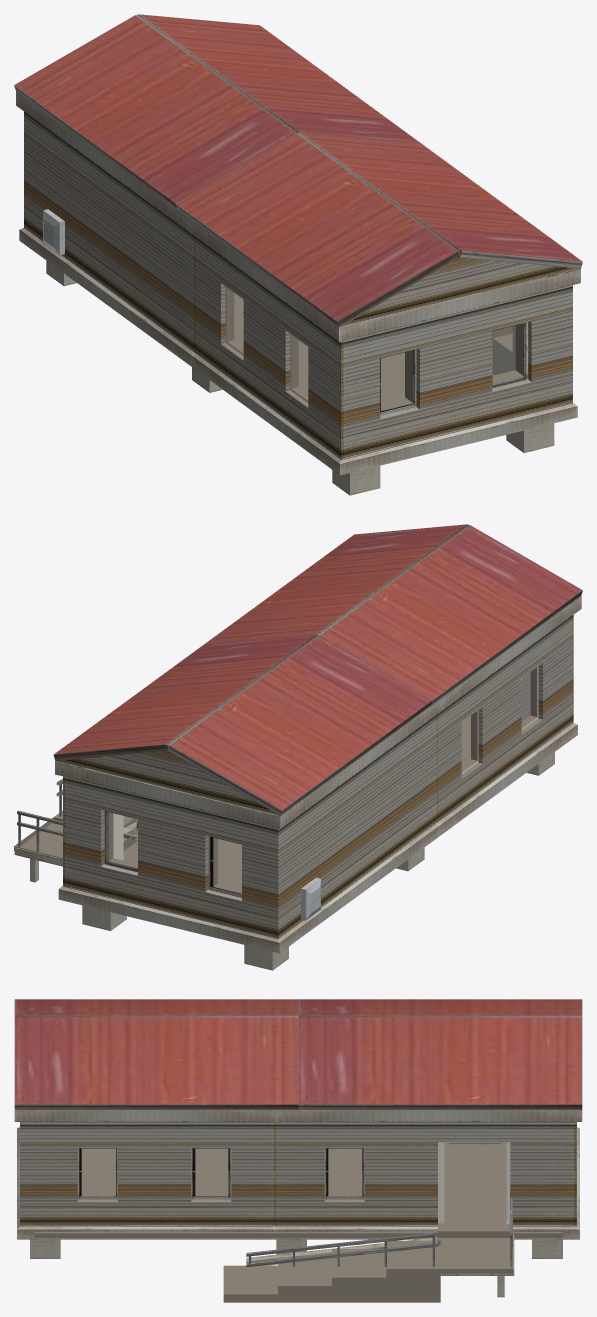
File: rural-mobile-home.windows-v1.lod0.glb
3 views of the same model, one above another, from view 1: azimuth 30°, elevation 25°; view 2: azimuth 150°, elevation 25°; view 3: azimuth 270°, elevation 25° (orthographic). The views are drawn at different scales.
Visible parts, largest first — view 1: Rural_UnmobileHome_1_Rural_Trailer_Stuff_1_0, Rural_UnmobileHome_1_Rural_Facade_FLR_2_0, Walkable floors and stairs (×2); view 2: Rural_UnmobileHome_1_Rural_Trailer_Stuff_1_0, Rural_UnmobileHome_1_Rural_Facade_FLR_2_0, Walkable floors and stairs (×2); view 3: Rural_UnmobileHome_1_Rural_Trailer_Stuff_1_0, Walkable floors and stairs (×2), Rural_UnmobileHome_1_Rural_Facade_FLR_2_0.
Boxes of the visible parts, x1,y1,x2,y2 form: Rural_UnmobileHome_1_Rural_Trailer_Stuff_1_0: [14, 14, 582, 459]; Rural_UnmobileHome_1_Rural_Facade_FLR_2_0: [16, 91, 580, 495]; Walkable floors and stairs (×2): [225, 277, 546, 411]; Rural_UnmobileHome_1_Rural_Trailer_Stuff_1_0: [53, 524, 582, 938]; Rural_UnmobileHome_1_Rural_Facade_FLR_2_0: [14, 596, 581, 970]; Walkable floors and stairs (×2): [14, 666, 538, 893]; Rural_UnmobileHome_1_Rural_Trailer_Stuff_1_0: [14, 999, 582, 1226]; Walkable floors and stairs (×2): [34, 1142, 562, 1302]; Rural_UnmobileHome_1_Rural_Facade_FLR_2_0: [14, 1109, 582, 1297].
Size of the model in its own units: 6.67 by 4.39 by 11.41.
Materials: 4 (2 with a texture image).
